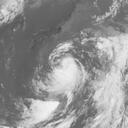cyclone: (43, 57, 84, 98)
